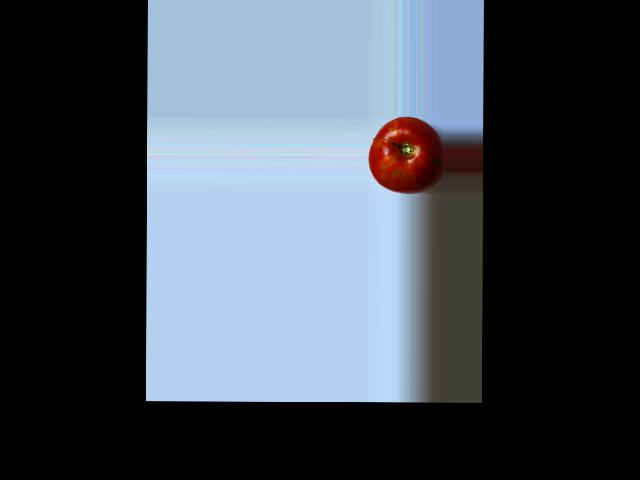tomato: (368, 116, 443, 193)
